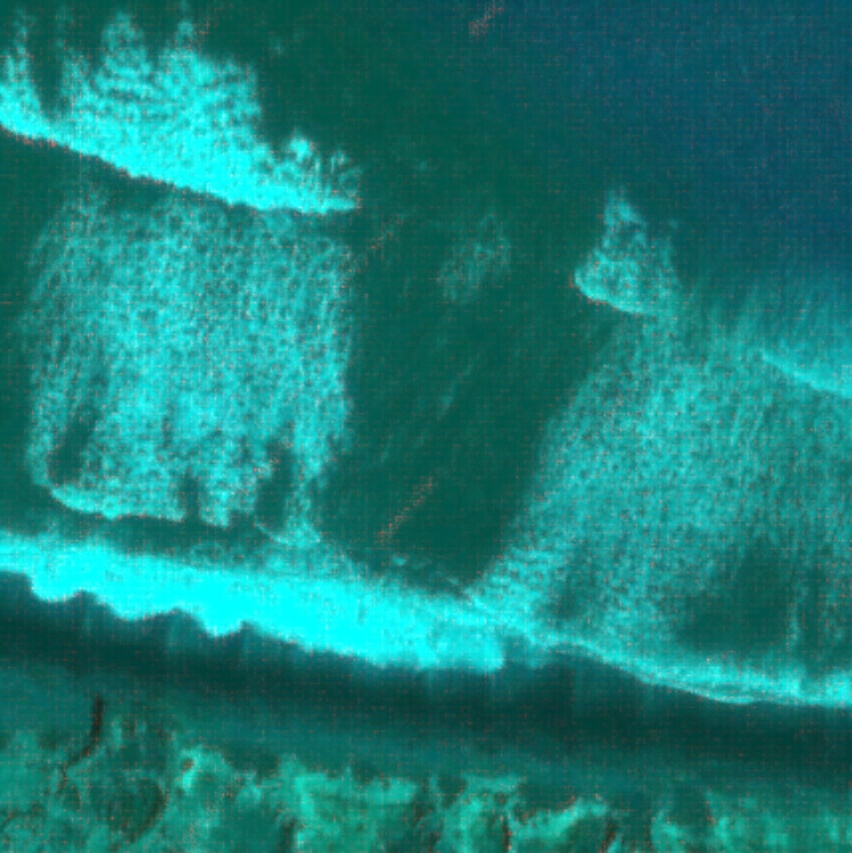rip_current: (260, 128, 608, 571)
